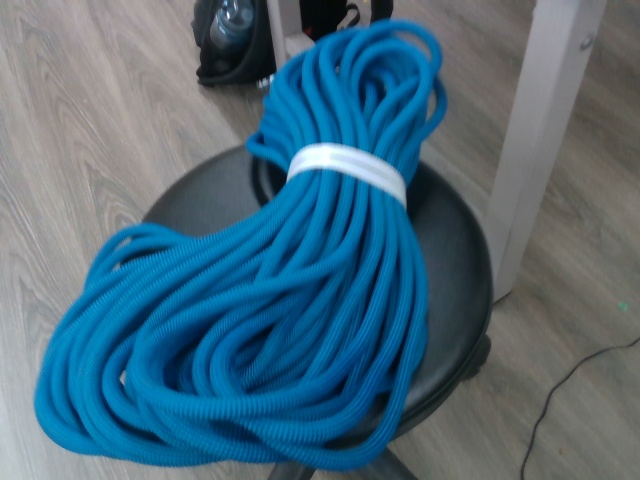rope: (29, 14, 452, 476)
